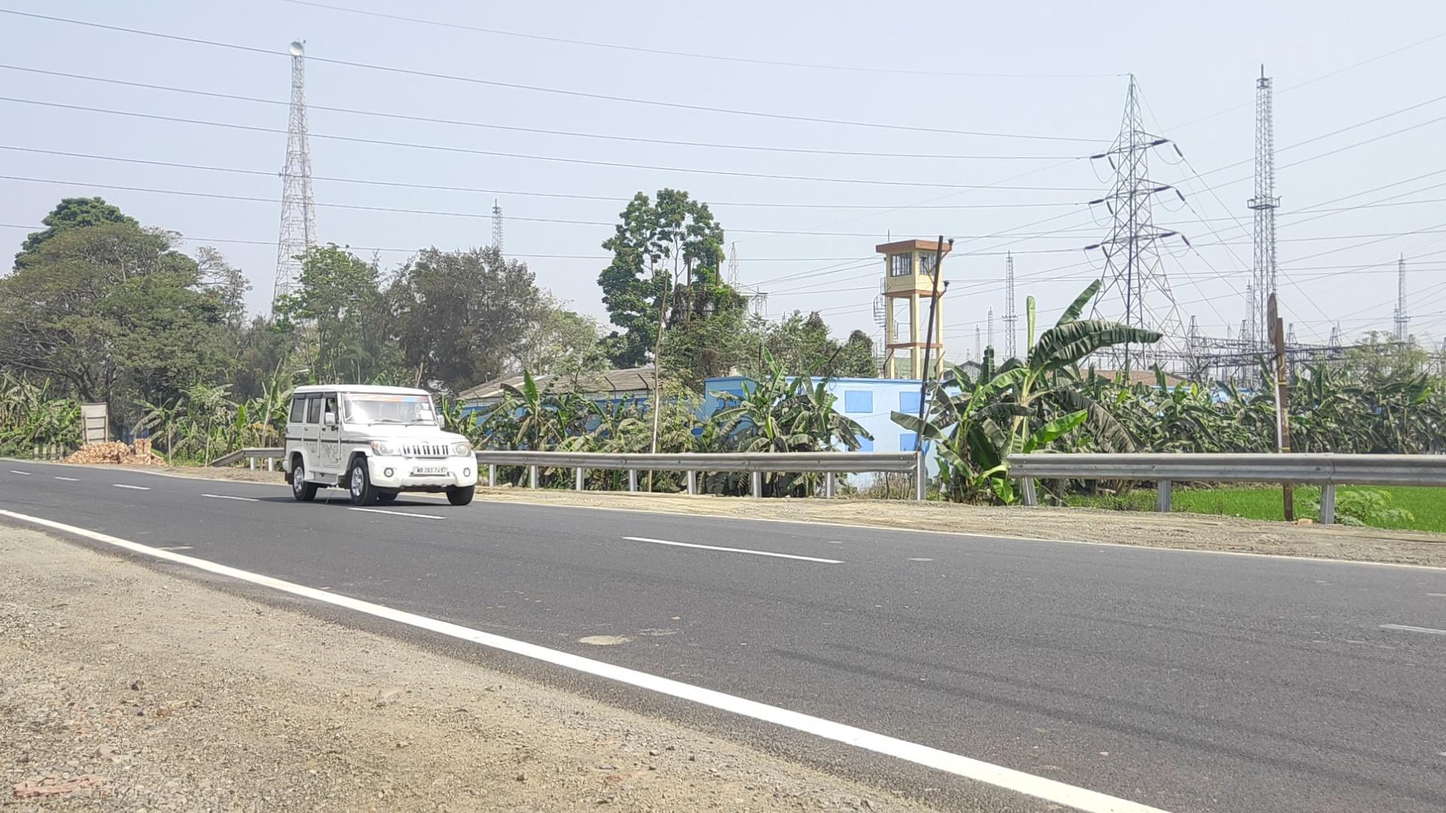car: (282, 384, 477, 507)
